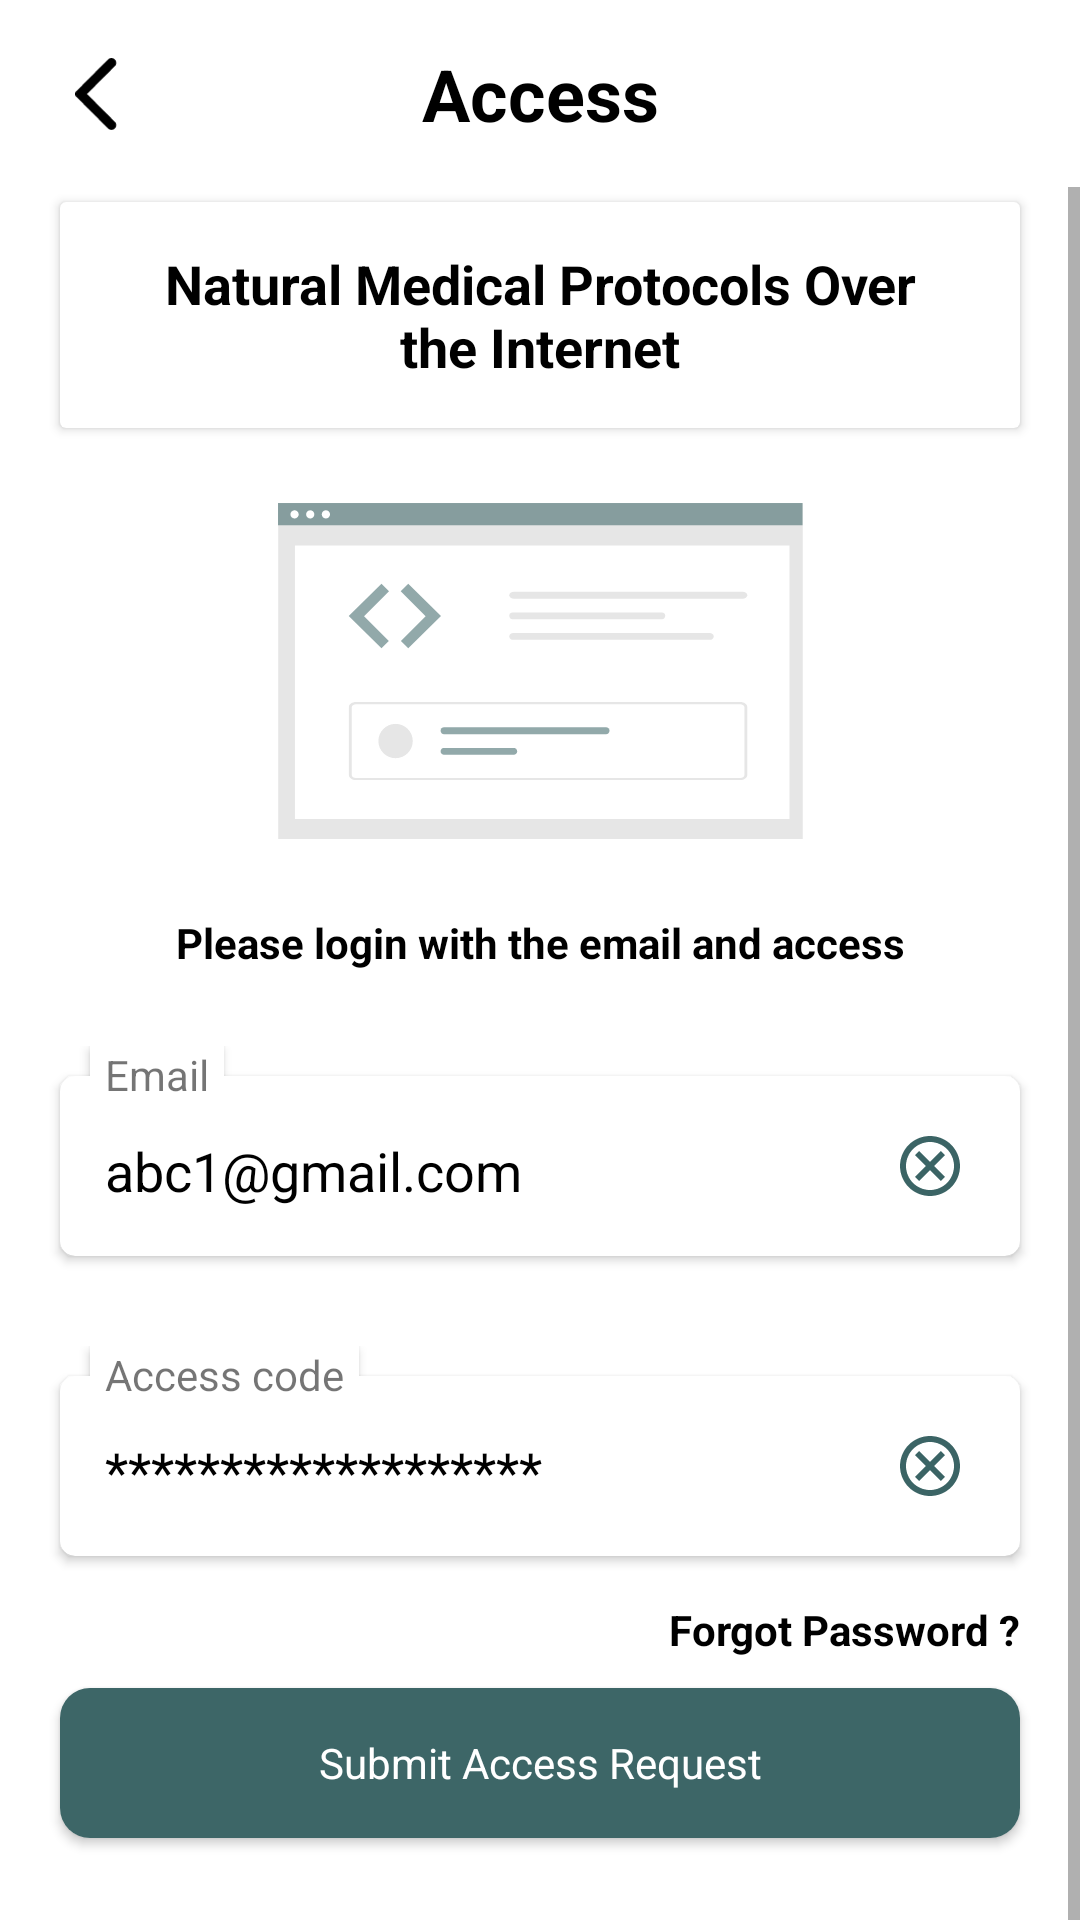

Named icons in this screenshot (1080w x 1920h) and their centers, (x=x, y=y):
back: (x=96, y=94)
cross: (x=930, y=1166), (x=930, y=1466)
